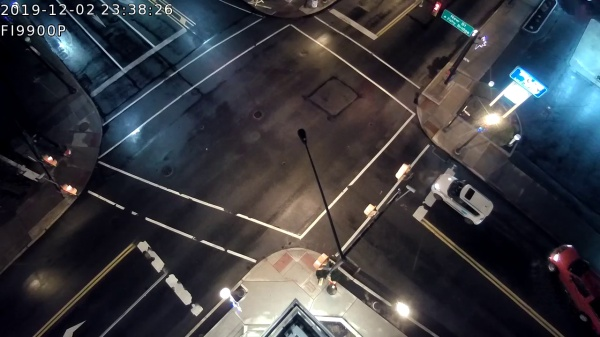car: (545, 235, 600, 329), (422, 169, 491, 225)
